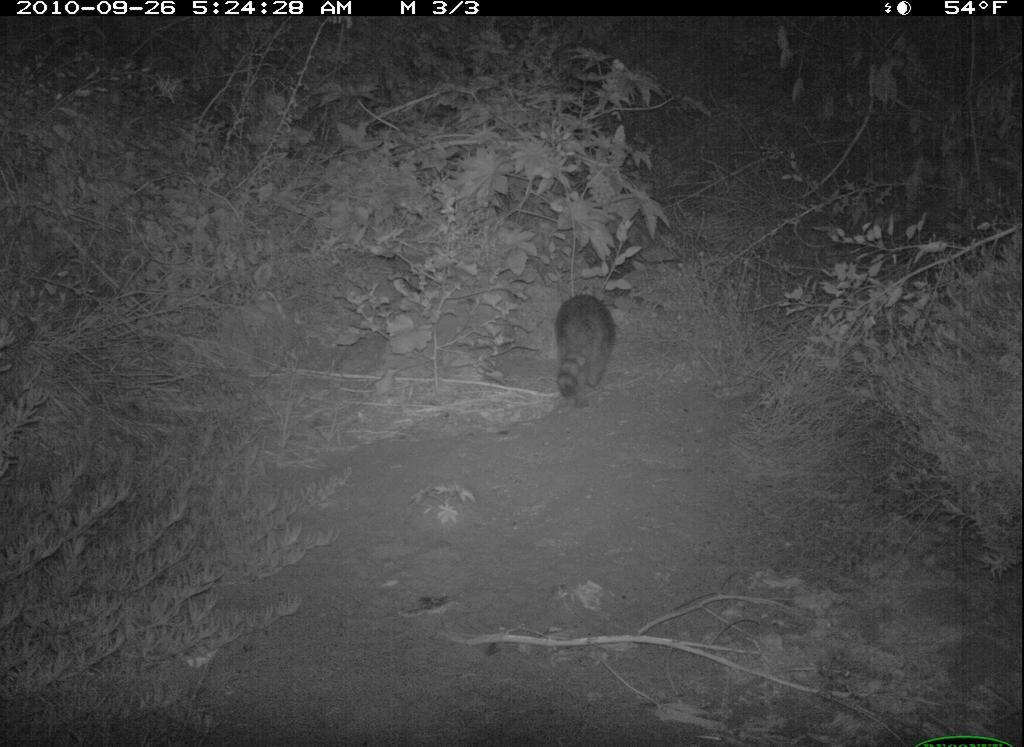raccoon: (533, 289, 635, 414)
